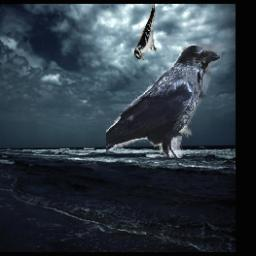Crow: (107, 44, 223, 158)
Woodpecker: (133, 4, 157, 60)
